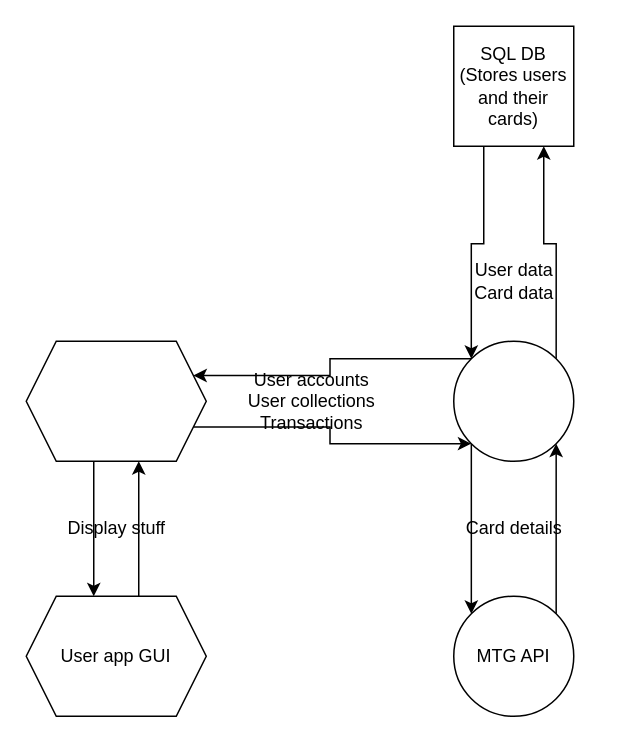
Some shapes in this 641 by 743 pixel diagram are drawn without their labels. Each missing label, with the centre of its shape:
Card Server: point 513,400
User app: point 115,400
